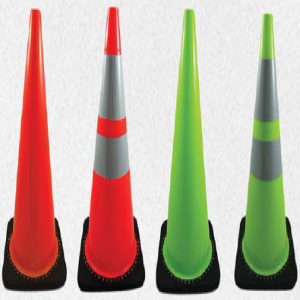traffic cone: (77, 6, 145, 292), (156, 9, 221, 294), (2, 9, 67, 291), (234, 13, 297, 291)
